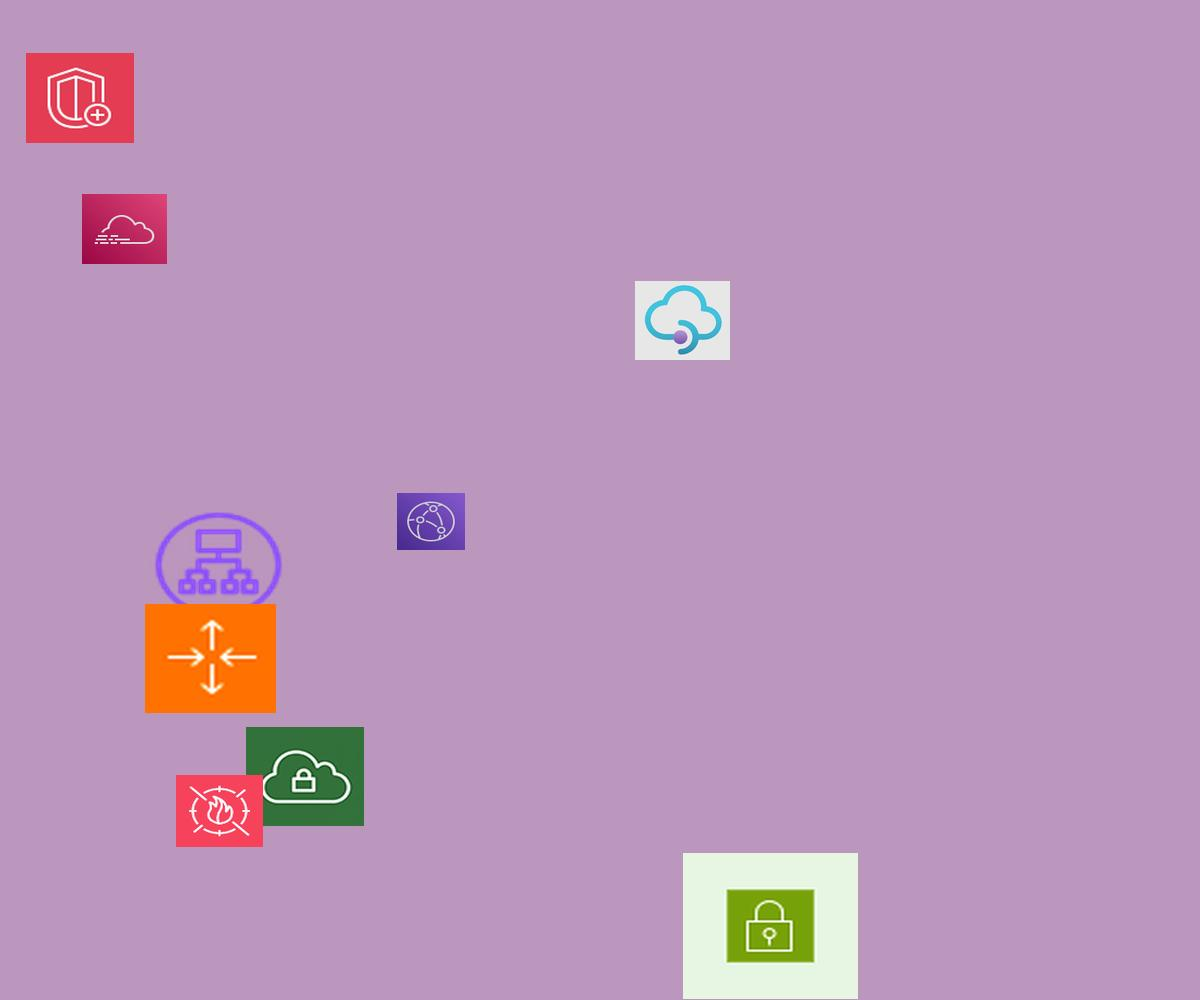AWS-CloudFront: (397, 493, 465, 550)
AWS-CloudTrail: (82, 194, 167, 264)
AWS-Private_vpc: (246, 727, 364, 826)
AWS-Public-subnet: (683, 853, 858, 999)
AWS-Res_Elastic-Load-Balancing_Application-Load-Balancer: (150, 508, 287, 622)
AWS-Scaling-group: (145, 604, 276, 713)
AWS-Shield: (26, 53, 134, 143)
AWS-WAF: (176, 775, 263, 847)
Azure_api_gateway: (635, 281, 730, 360)
